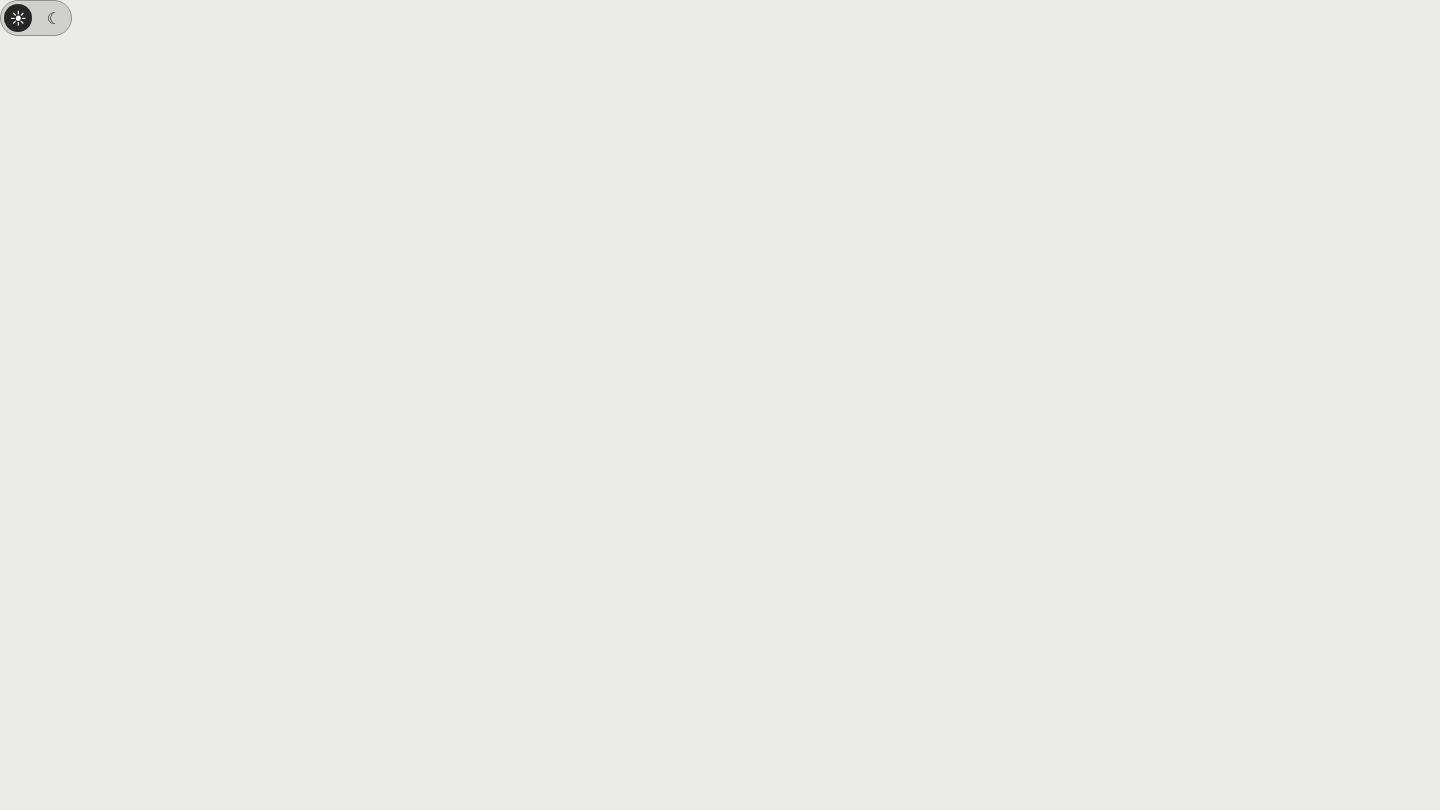
Test: theme toggle › flips accessible name and aria-pressed on click
The image size is (1440, 810).
Click the button named "Switch to dark mode". click: {"x": 36, "y": 18}
box: [0,0,72,36]
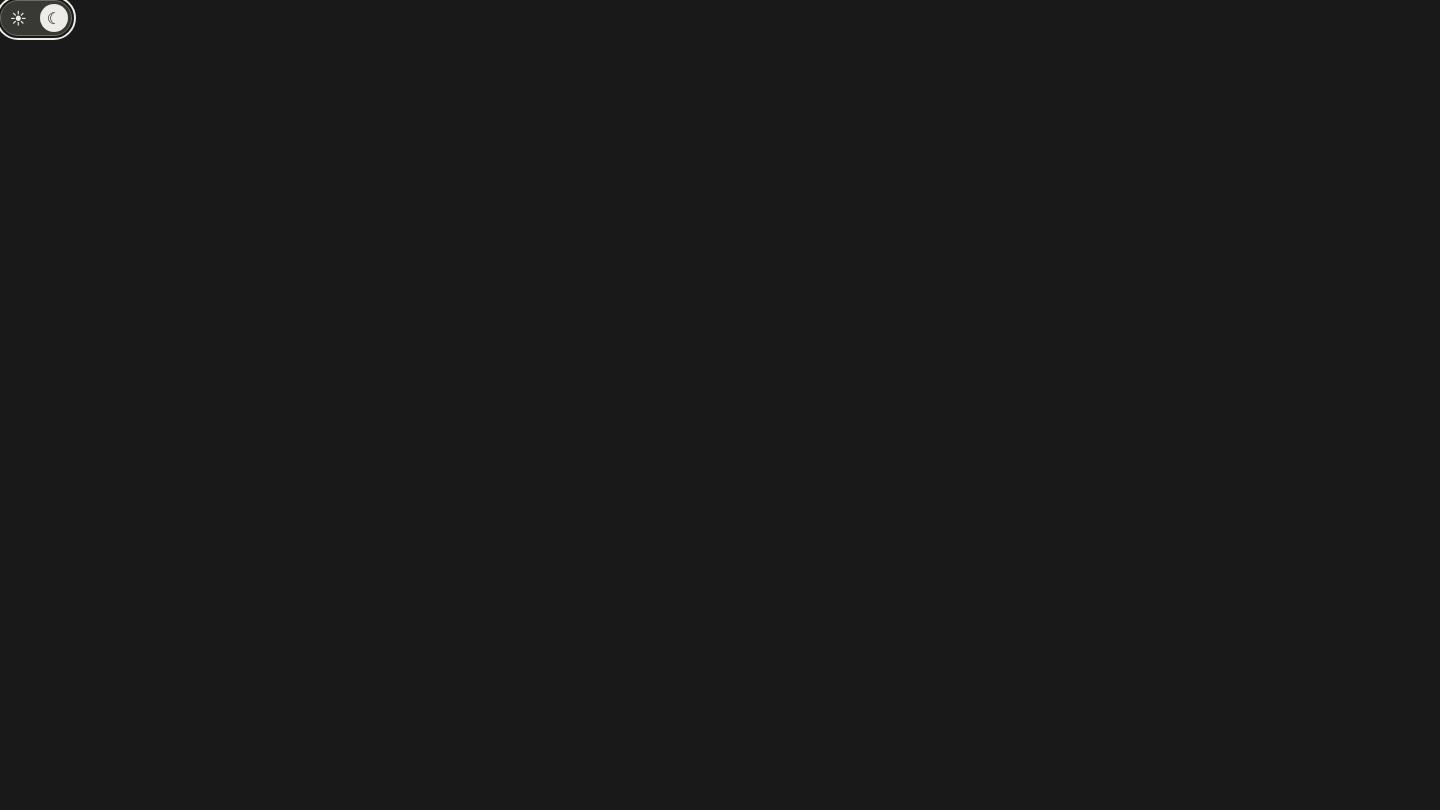
Expected: the button named "Switch to light mode" is pressed
Click the button named "Switch to light mode". click: {"x": 36, "y": 18}
box: [0,0,72,36]
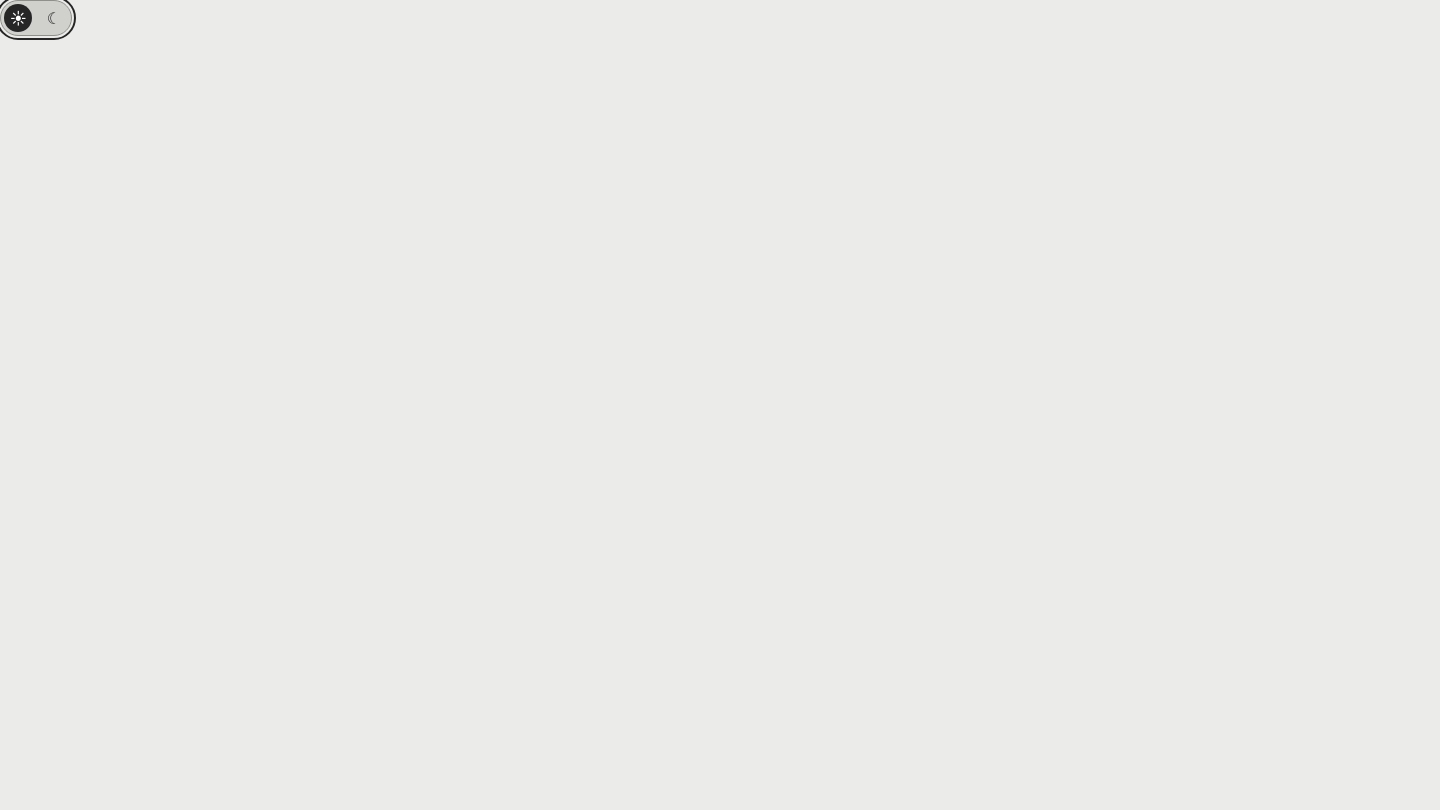
Expected: the button named "Switch to dark mode" is not pressed, [0,0,72,36]
